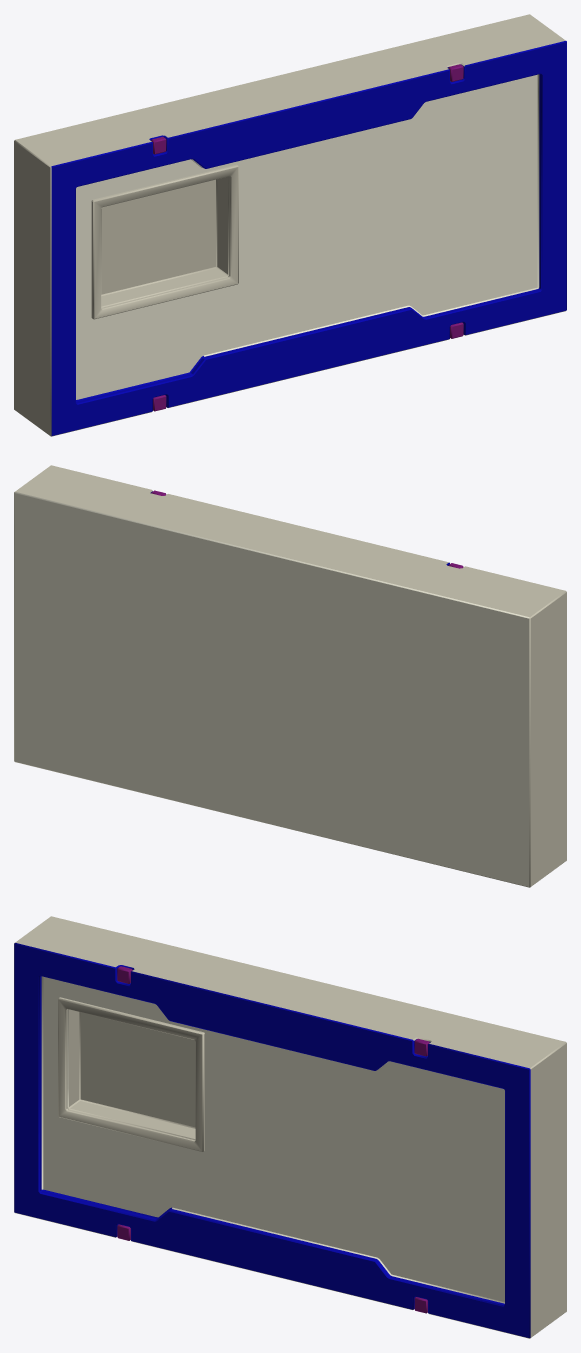
File: Scifi2_WallE2_Prop.fbx
The picture shows the model from 3 angles, top to bottom: view 1: azimuth 30°, elevation 25°; view 2: azimuth 150°, elevation 25°; view 3: azimuth 330°, elevation 25°; orthographic projection.
Parts seen in each view (by area): view 1: WallPanelE2; view 2: WallPanelE2; view 3: WallPanelE2.
Part boxes in pixels (x1,y1,x2,y2): WallPanelE2: (14, 14, 566, 436); WallPanelE2: (14, 465, 566, 887); WallPanelE2: (14, 916, 566, 1338).
Size of the model in its own units: 800 by 400 by 100.
